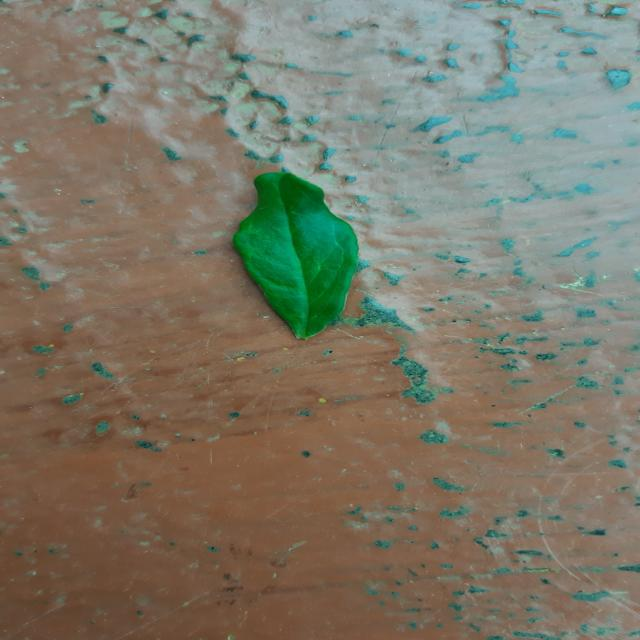pumpkin: (233, 170, 358, 339)
